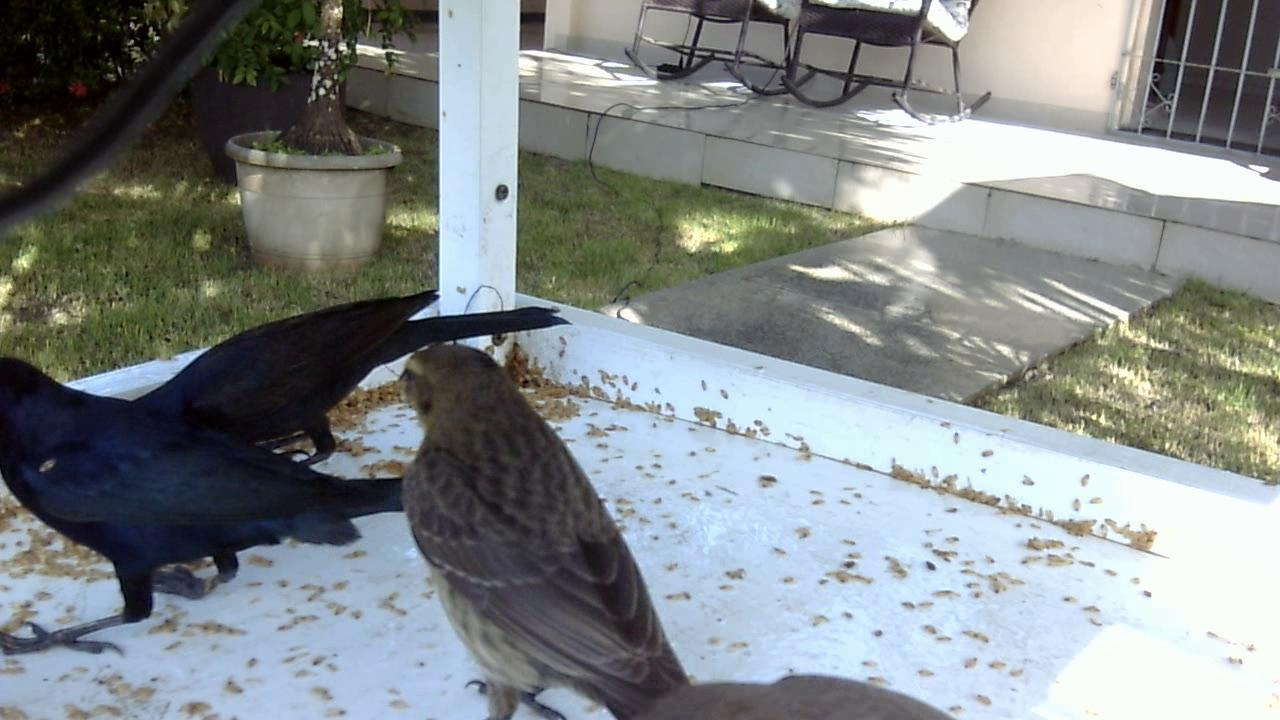chupim: (6, 288, 553, 663), (359, 332, 725, 715), (78, 282, 584, 502)
